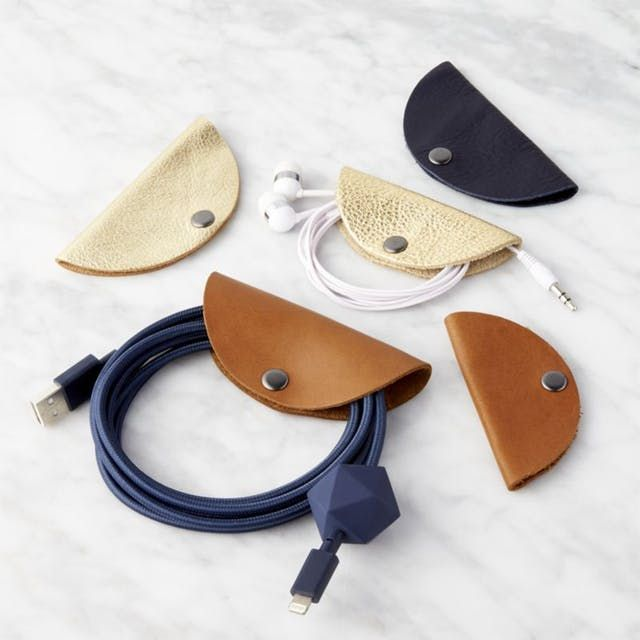cuero: (56, 60, 581, 492)
